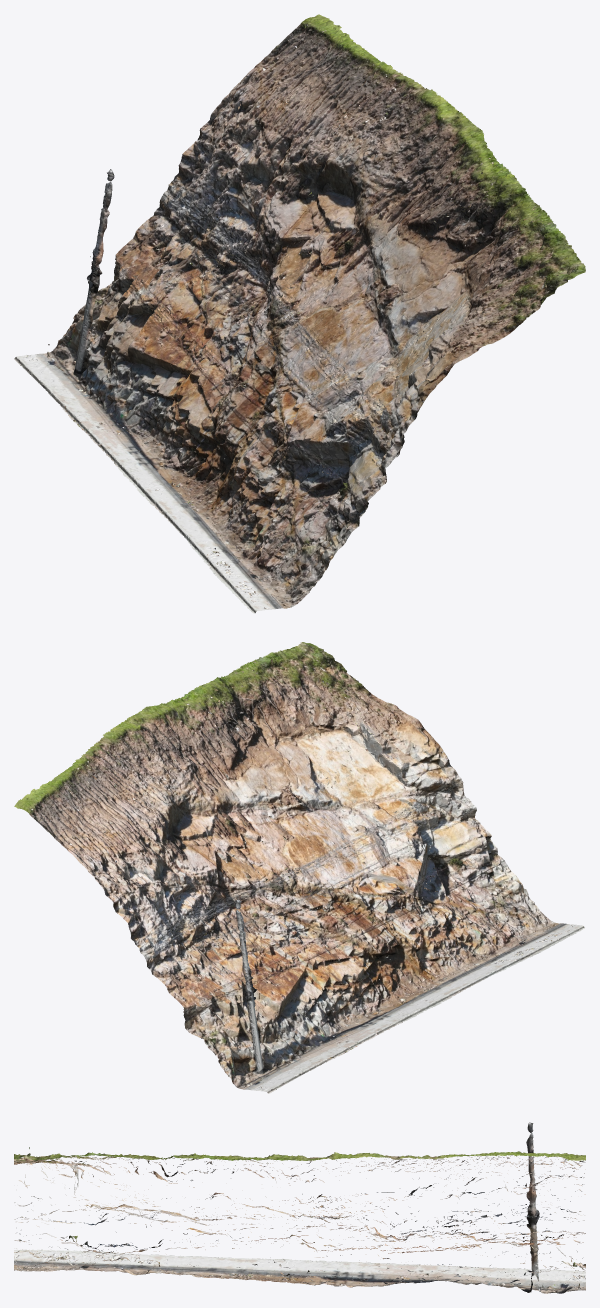
The picture shows the model from 3 angles, top to bottom: view 1: azimuth 30°, elevation 25°; view 2: azimuth 150°, elevation 25°; view 3: azimuth 270°, elevation 25°; orthographic projection. The views are drawn at different scales.
Size of the model in its own units: 21.54 by 15.69 by 30.51.
3 materials, 3 textured.
